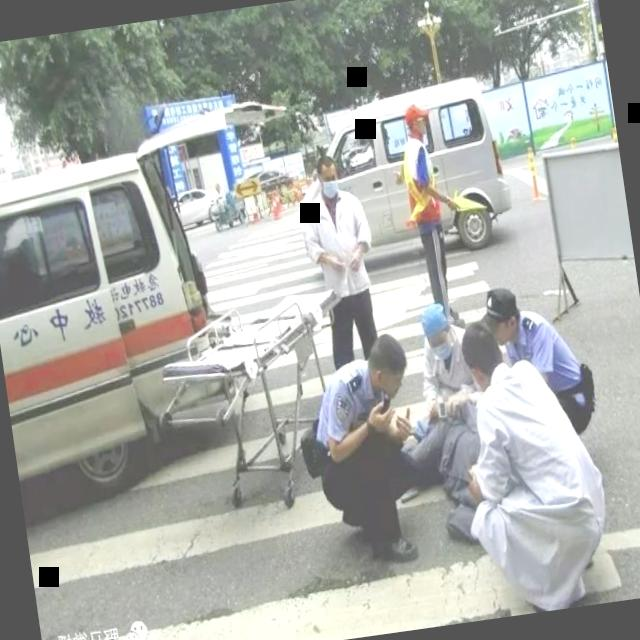Fall-Detected: (377, 378, 518, 525)
